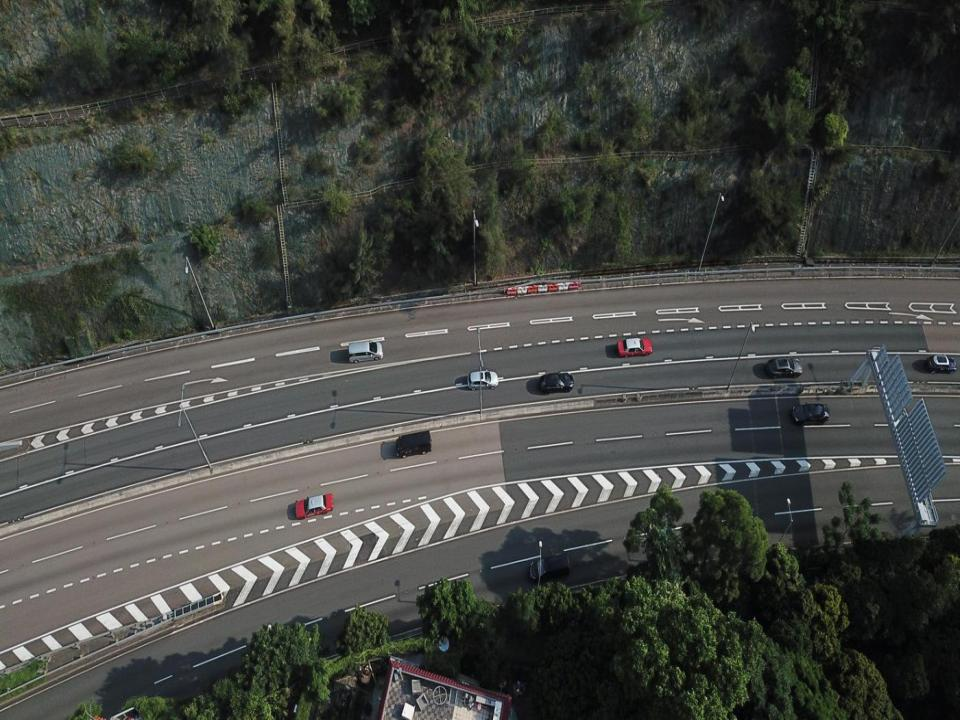car: (294, 492, 334, 520), (792, 401, 830, 424), (767, 356, 803, 380), (540, 371, 574, 396), (616, 336, 653, 358), (467, 368, 498, 391), (926, 354, 956, 374)
van: (528, 552, 570, 582), (395, 428, 432, 460), (348, 339, 383, 364)
